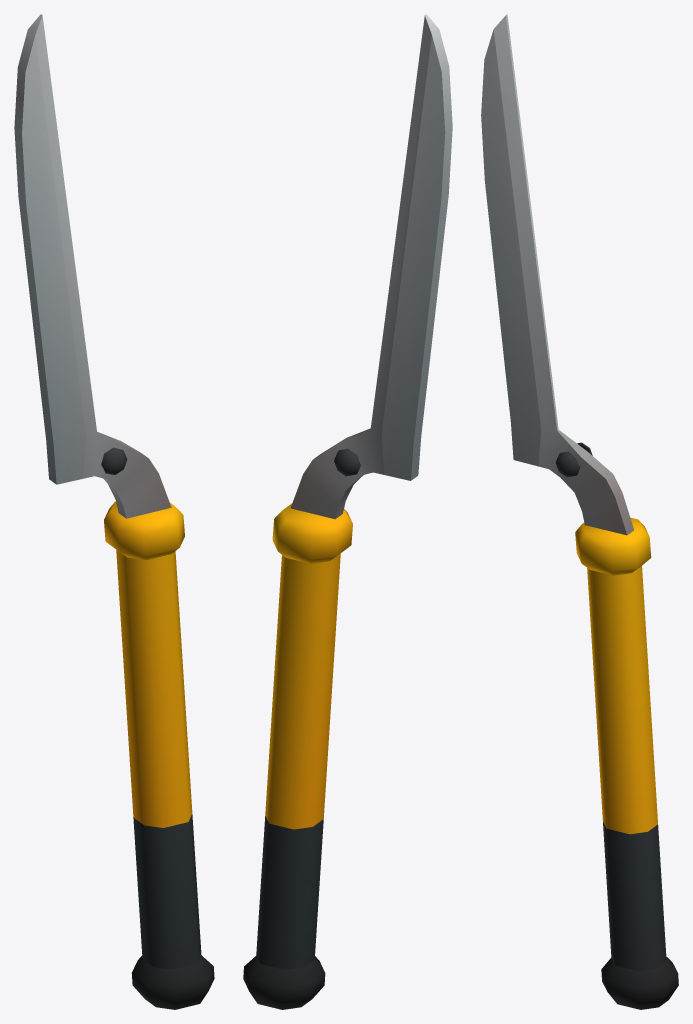
Rendered from Garden_Shears_01.fbx.
3 renders of one model, left to right at view 1: azimuth 30°, elevation 25°; view 2: azimuth 150°, elevation 25°; view 3: azimuth 330°, elevation 25°, orthographic. The views are drawn at different scales.
Parts seen in each view (by area): view 1: Garden_Shears_01; view 2: Garden_Shears_01; view 3: Garden_Shears_01.
Boxes of the visible parts, left/top/right/bottom form: Garden_Shears_01: left=14, top=14, right=214, bottom=1009; Garden_Shears_01: left=243, top=14, right=452, bottom=1009; Garden_Shears_01: left=481, top=14, right=678, bottom=1009.
Bounding box in the file's own units: 14.8 × 4.85 × 74.22.
